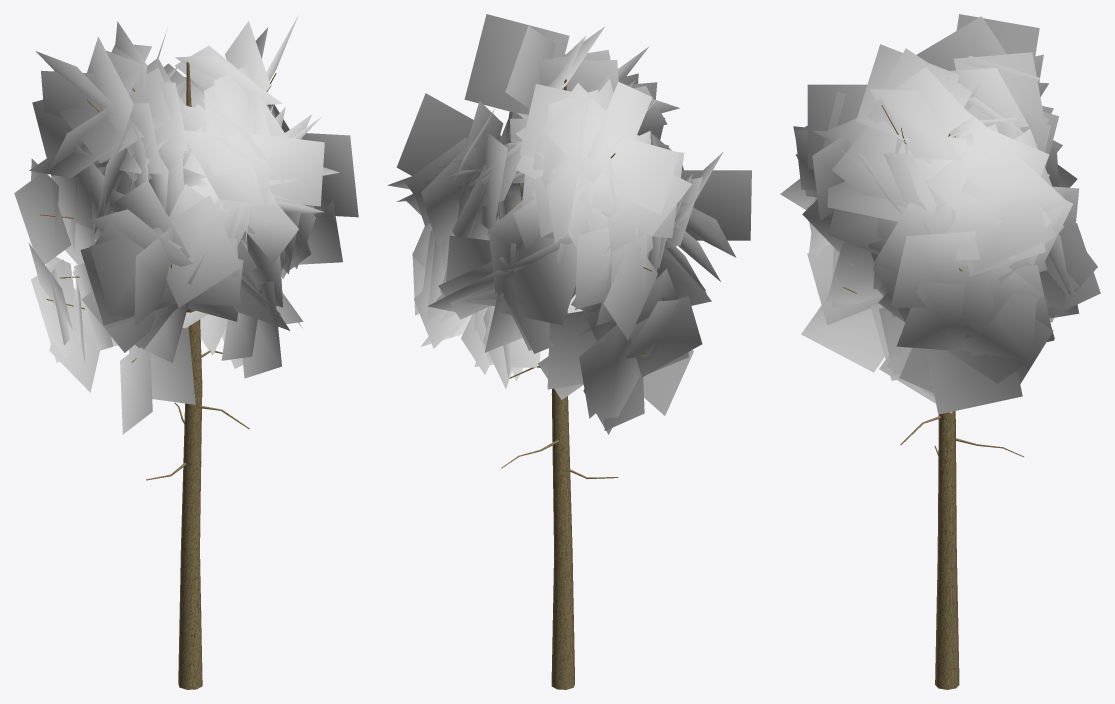
File: long_leaf_pine_LOD0.fbx
The picture shows the model from 3 angles, left to right: view 1: azimuth 30°, elevation 25°; view 2: azimuth 150°, elevation 25°; view 3: azimuth 270°, elevation 25°; orthographic projection. The views are drawn at different scales.
Visible parts, largest first — view 1: long_leaf_pine_LOD0; view 2: long_leaf_pine_LOD0; view 3: long_leaf_pine_LOD0.
Part boxes in pixels (x1,y1,x2,y2): long_leaf_pine_LOD0: (14,15,358,689); long_leaf_pine_LOD0: (387,14,751,689); long_leaf_pine_LOD0: (780,14,1100,689).
Bounding box in the file's own units: 692 × 1596 × 725.
